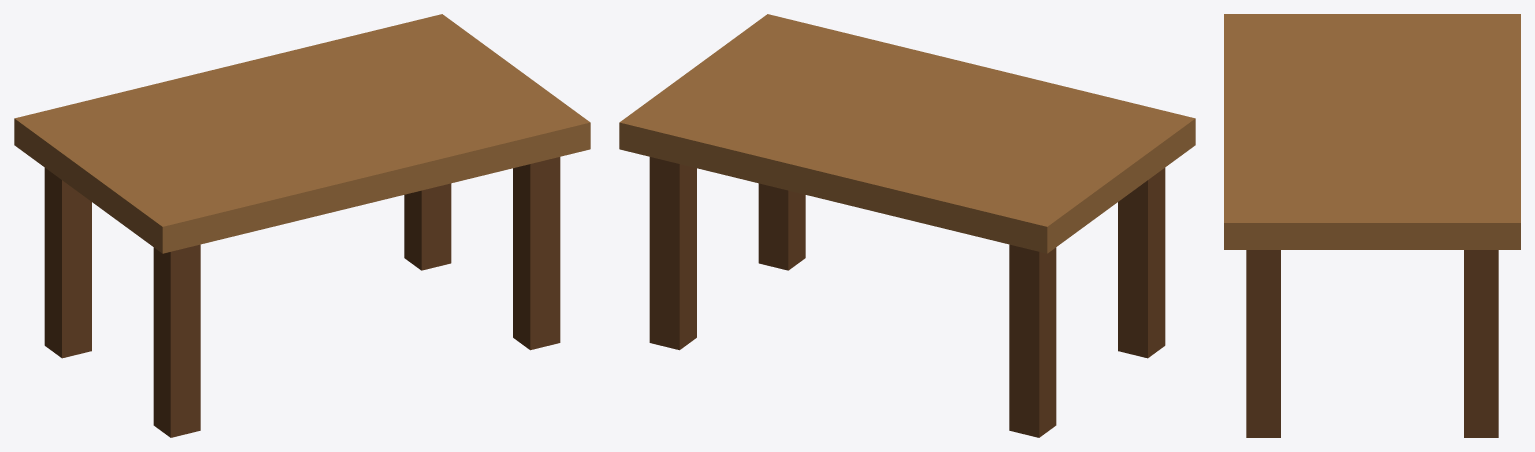
Rendered from table.glb.
3 views of the same model, side by side, from view 1: azimuth 30°, elevation 25°; view 2: azimuth 150°, elevation 25°; view 3: azimuth 270°, elevation 25° (orthographic).
Visible parts, largest first — view 1: Table, Leg front left, Leg front right, Leg back left, Leg back right; view 2: Table, Leg back left, Leg back right, Leg front left, Leg front right; view 3: Table, Leg back right, Leg front right.
Part boxes in pixels (left/top/right/bottom): Table: left=14, top=14, right=590, bottom=253; Leg front left: left=153, top=244, right=200, bottom=437; Leg front right: left=513, top=157, right=560, bottom=350; Leg back left: left=44, top=168, right=91, bottom=358; Leg back right: left=404, top=183, right=451, bottom=270; Table: left=619, top=14, right=1195, bottom=253; Leg back left: left=1009, top=244, right=1056, bottom=437; Leg back right: left=649, top=157, right=696, bottom=350; Leg front left: left=1118, top=168, right=1165, bottom=358; Leg front right: left=758, top=183, right=805, bottom=270; Table: left=1224, top=14, right=1520, bottom=249; Leg back right: left=1464, top=250, right=1498, bottom=437; Leg front right: left=1246, top=250, right=1280, bottom=437.
Size of the model in its own units: 1 by 0.5 by 0.6.
